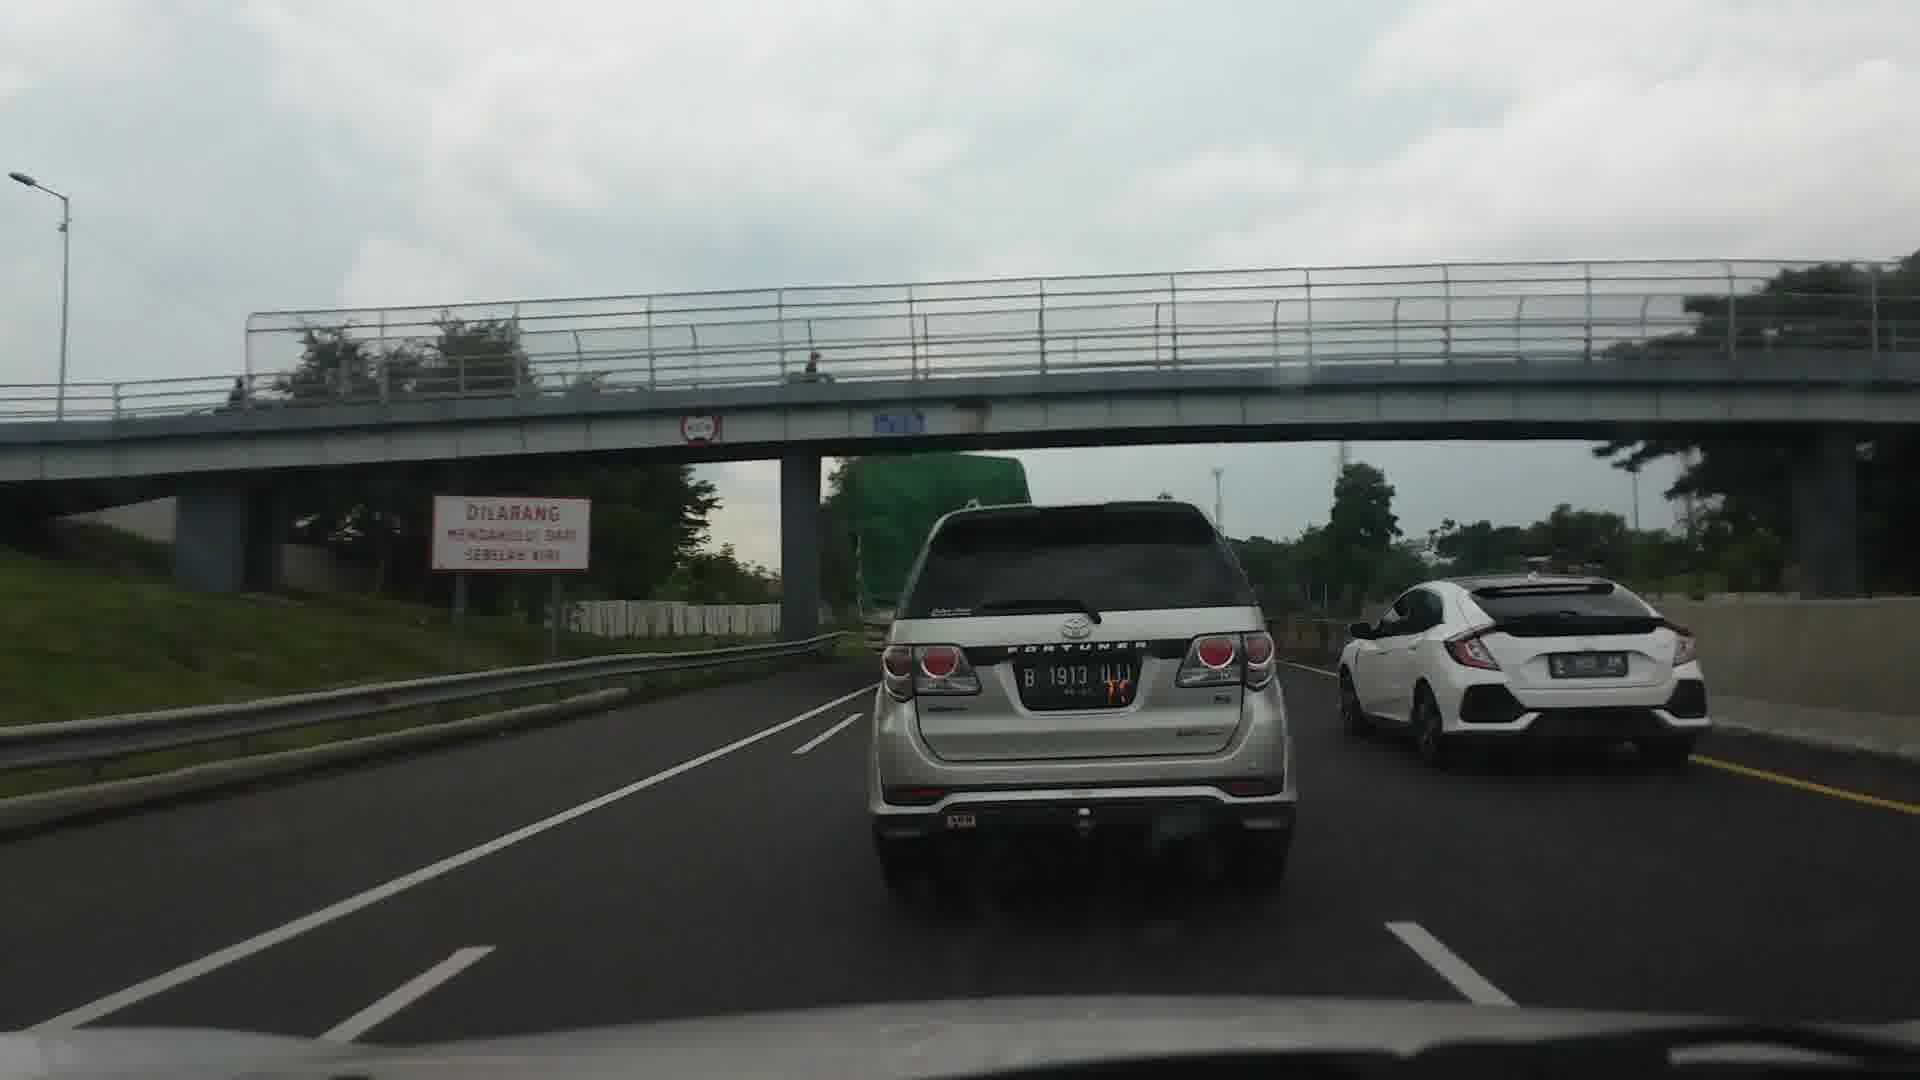plate_positive: (1021, 659, 1134, 699)
